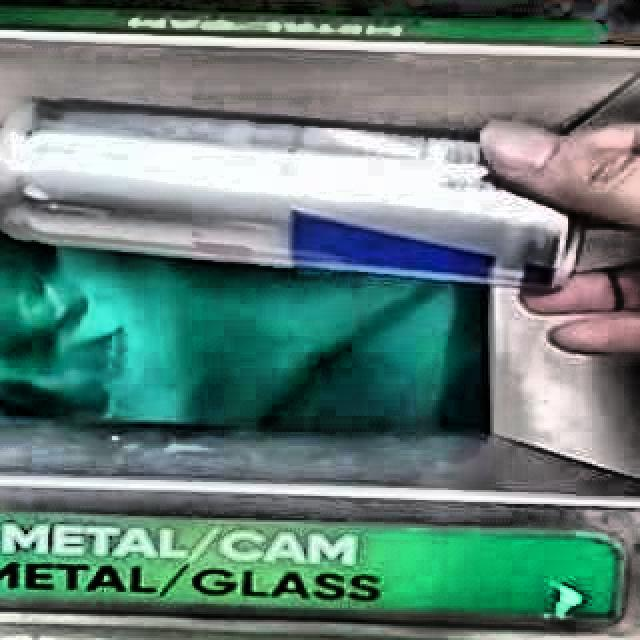metal: (0, 100, 579, 287)
